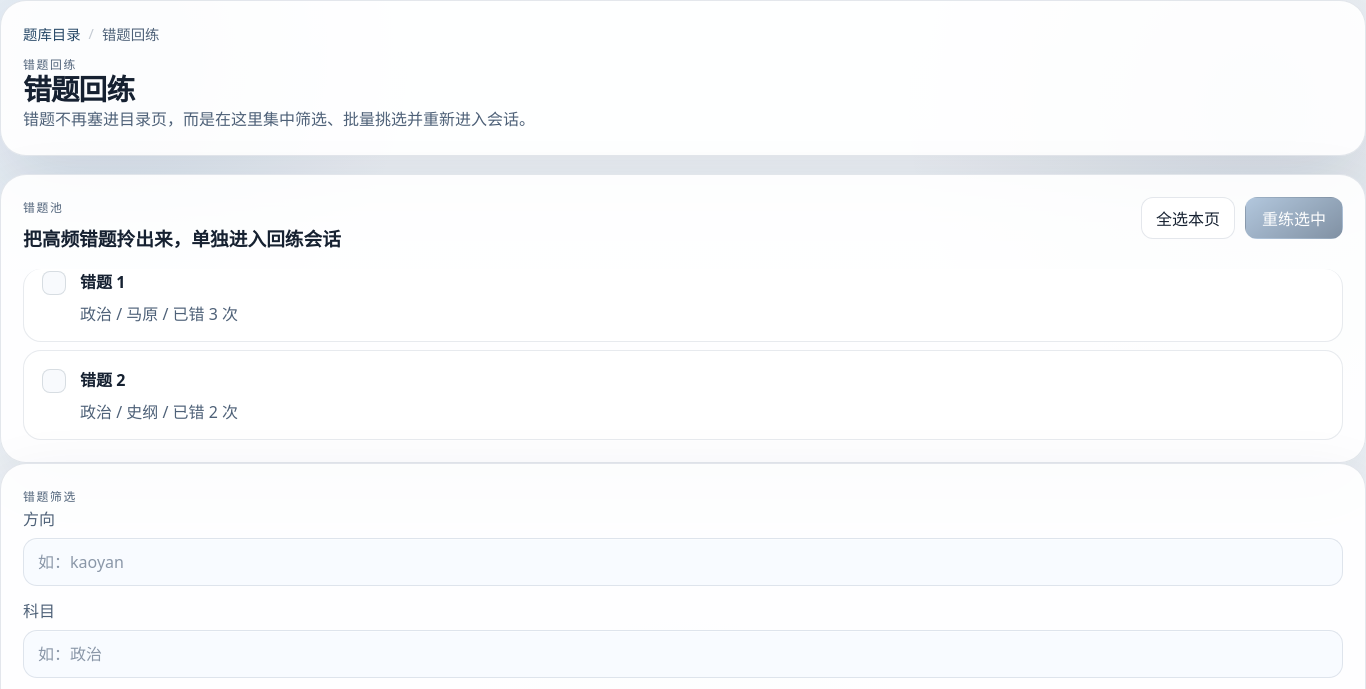
Scenario: practice pages › supports select-all and clear-all for the visible wrong-question items
This screenshot has width=1366, height=689.
Expected: the text "错题 1" is shown, left=80, top=269, right=125, bottom=293
Step 1. Click the button "全选本页" → (1188, 218), box left=1141, top=197, right=1235, bottom=239
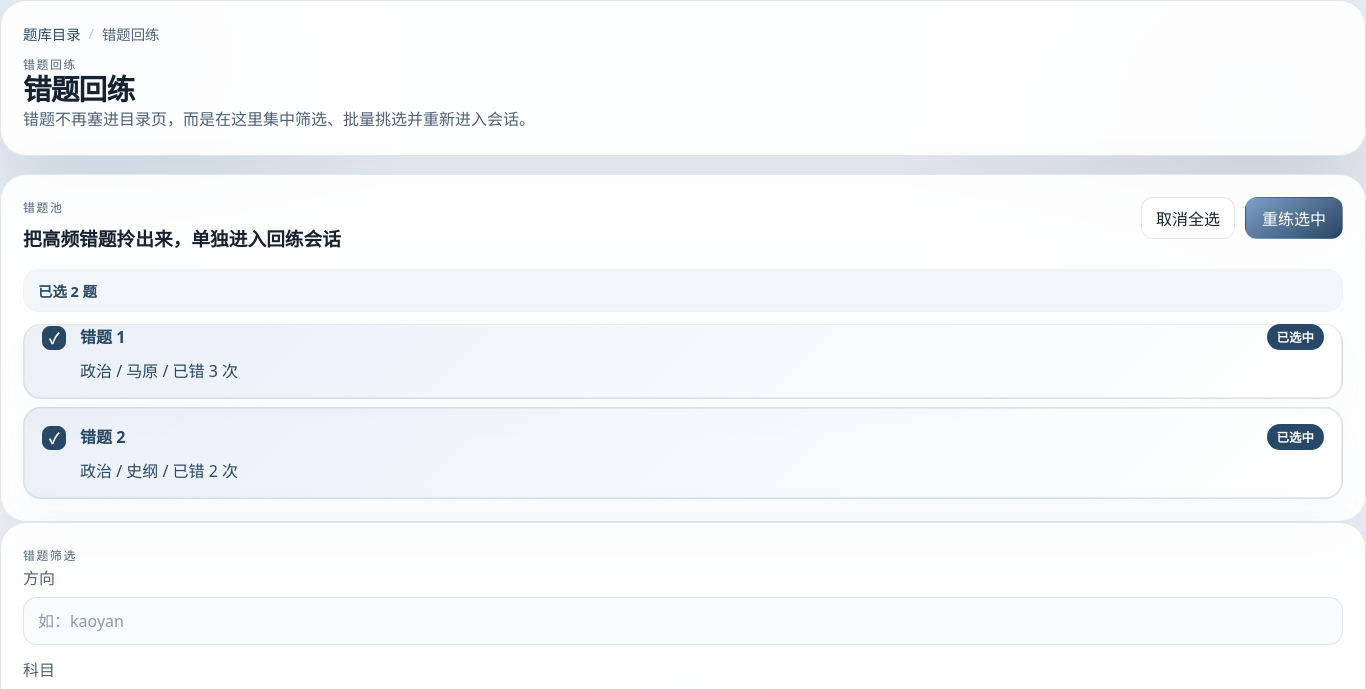
Expected: the text "已选中" is shown 2 times, left=1267, top=324, right=1324, bottom=350; left=1267, top=424, right=1324, bottom=450
Expected: the text "已选 2 题" is shown, left=38, top=280, right=97, bottom=301
Expected: the button "重练选中" is enabled, left=1245, top=197, right=1343, bottom=239
Step 2. Click the button "取消全选" → (1188, 218), box left=1141, top=197, right=1235, bottom=239
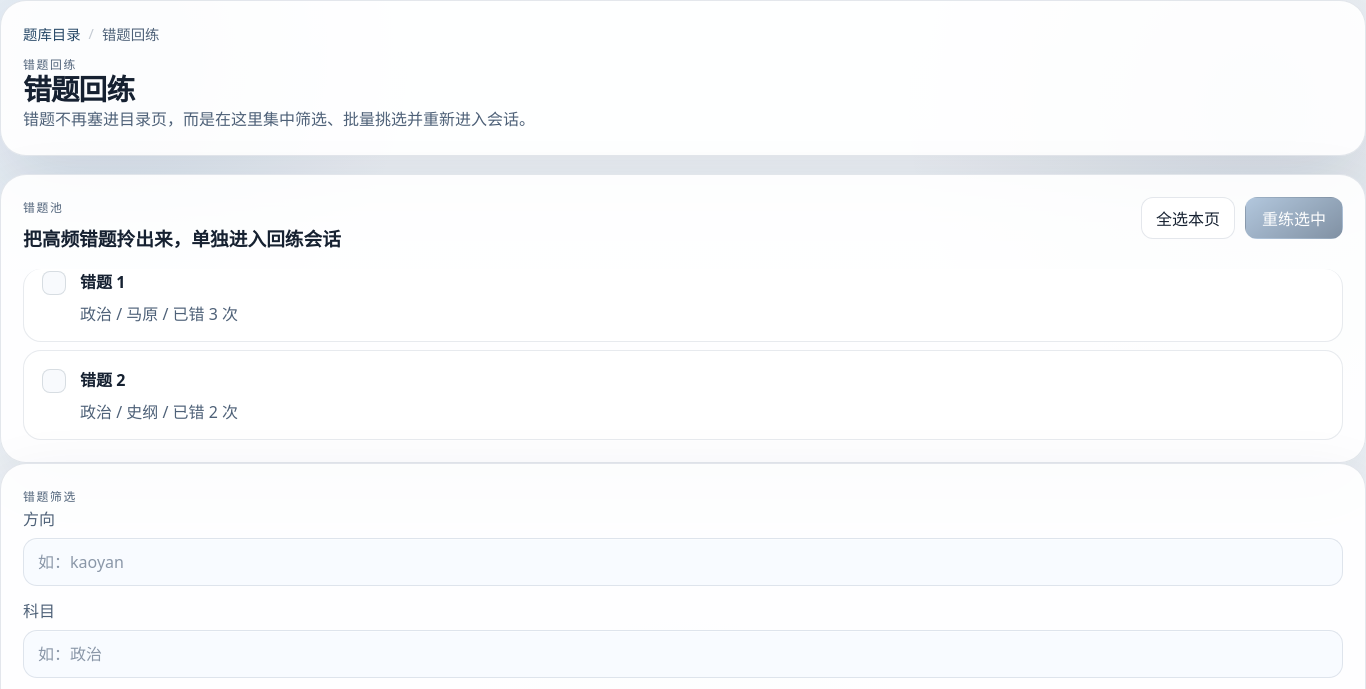
Expected: the text "已选 2 题" is gone
Expected: the text "已选中" is gone
Expected: the button "重练选中" is disabled, left=1245, top=197, right=1343, bottom=239
